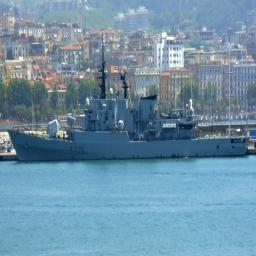Fragata: (7, 29, 252, 167)
